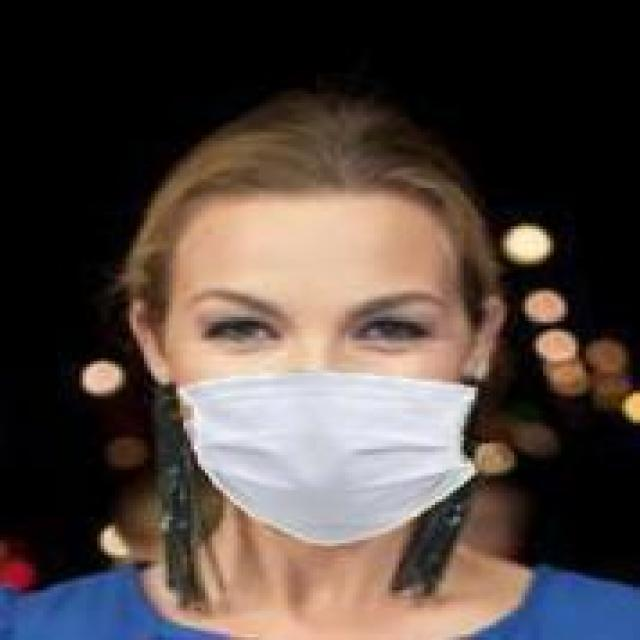mask: (104, 73, 518, 558)
